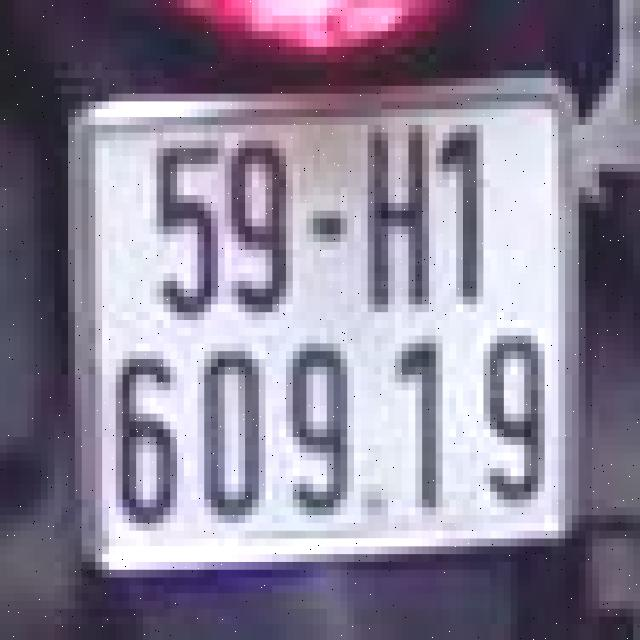0: (198, 347, 272, 527)
1: (398, 332, 460, 534), (439, 121, 494, 316)
5: (153, 140, 228, 320)
6: (112, 347, 180, 527)
9: (476, 332, 552, 511), (282, 340, 358, 511), (228, 141, 289, 312)
H: (361, 117, 436, 312)
